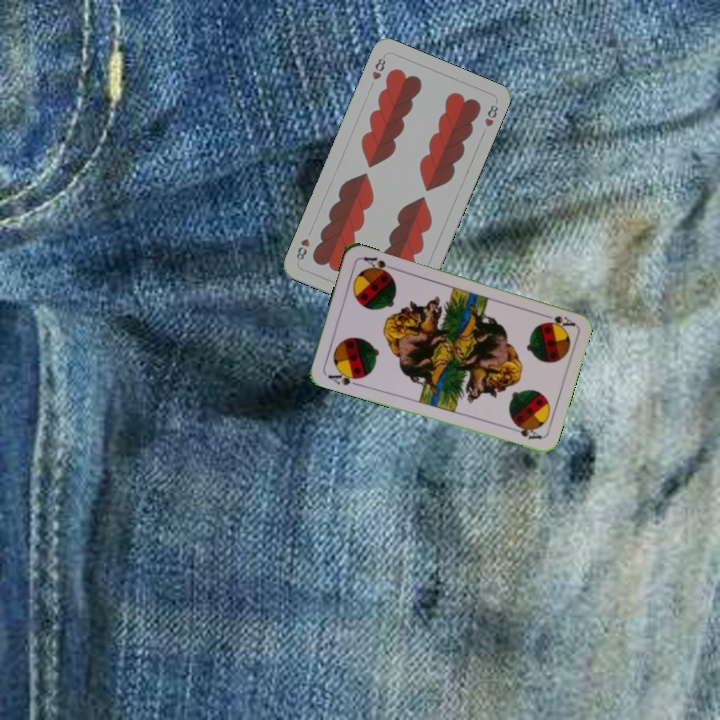H8: (368, 51, 388, 82)
SA: (324, 367, 364, 389), (537, 310, 577, 329)
